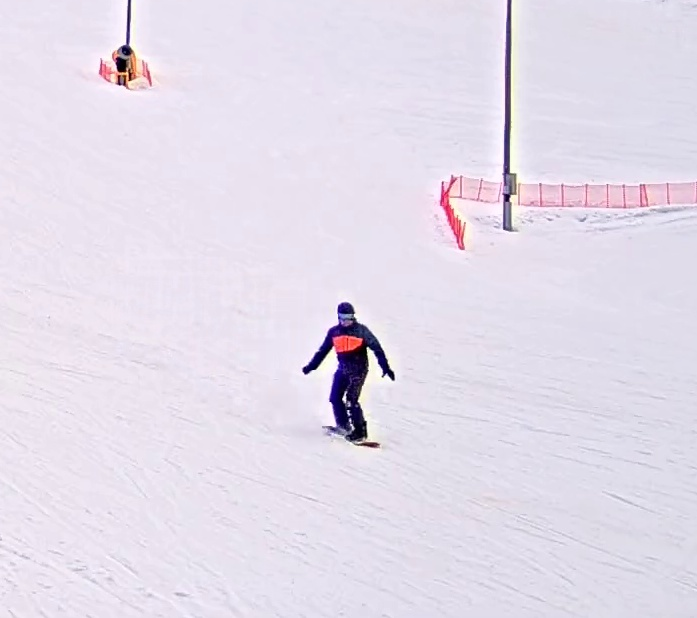snowboarder: (298, 297, 397, 450)
